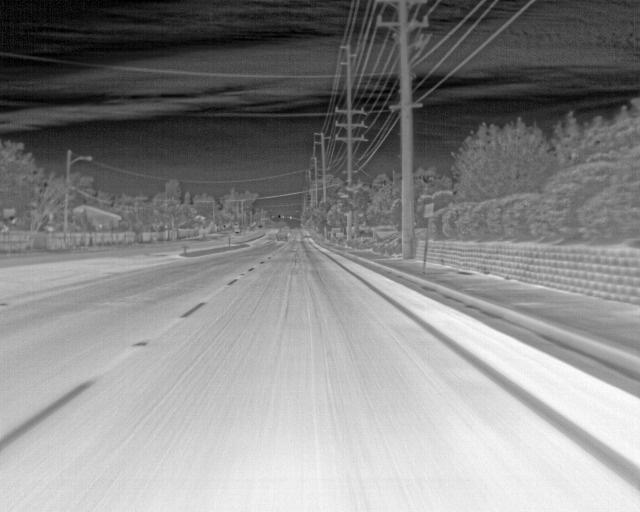car: (275, 228, 288, 241)
